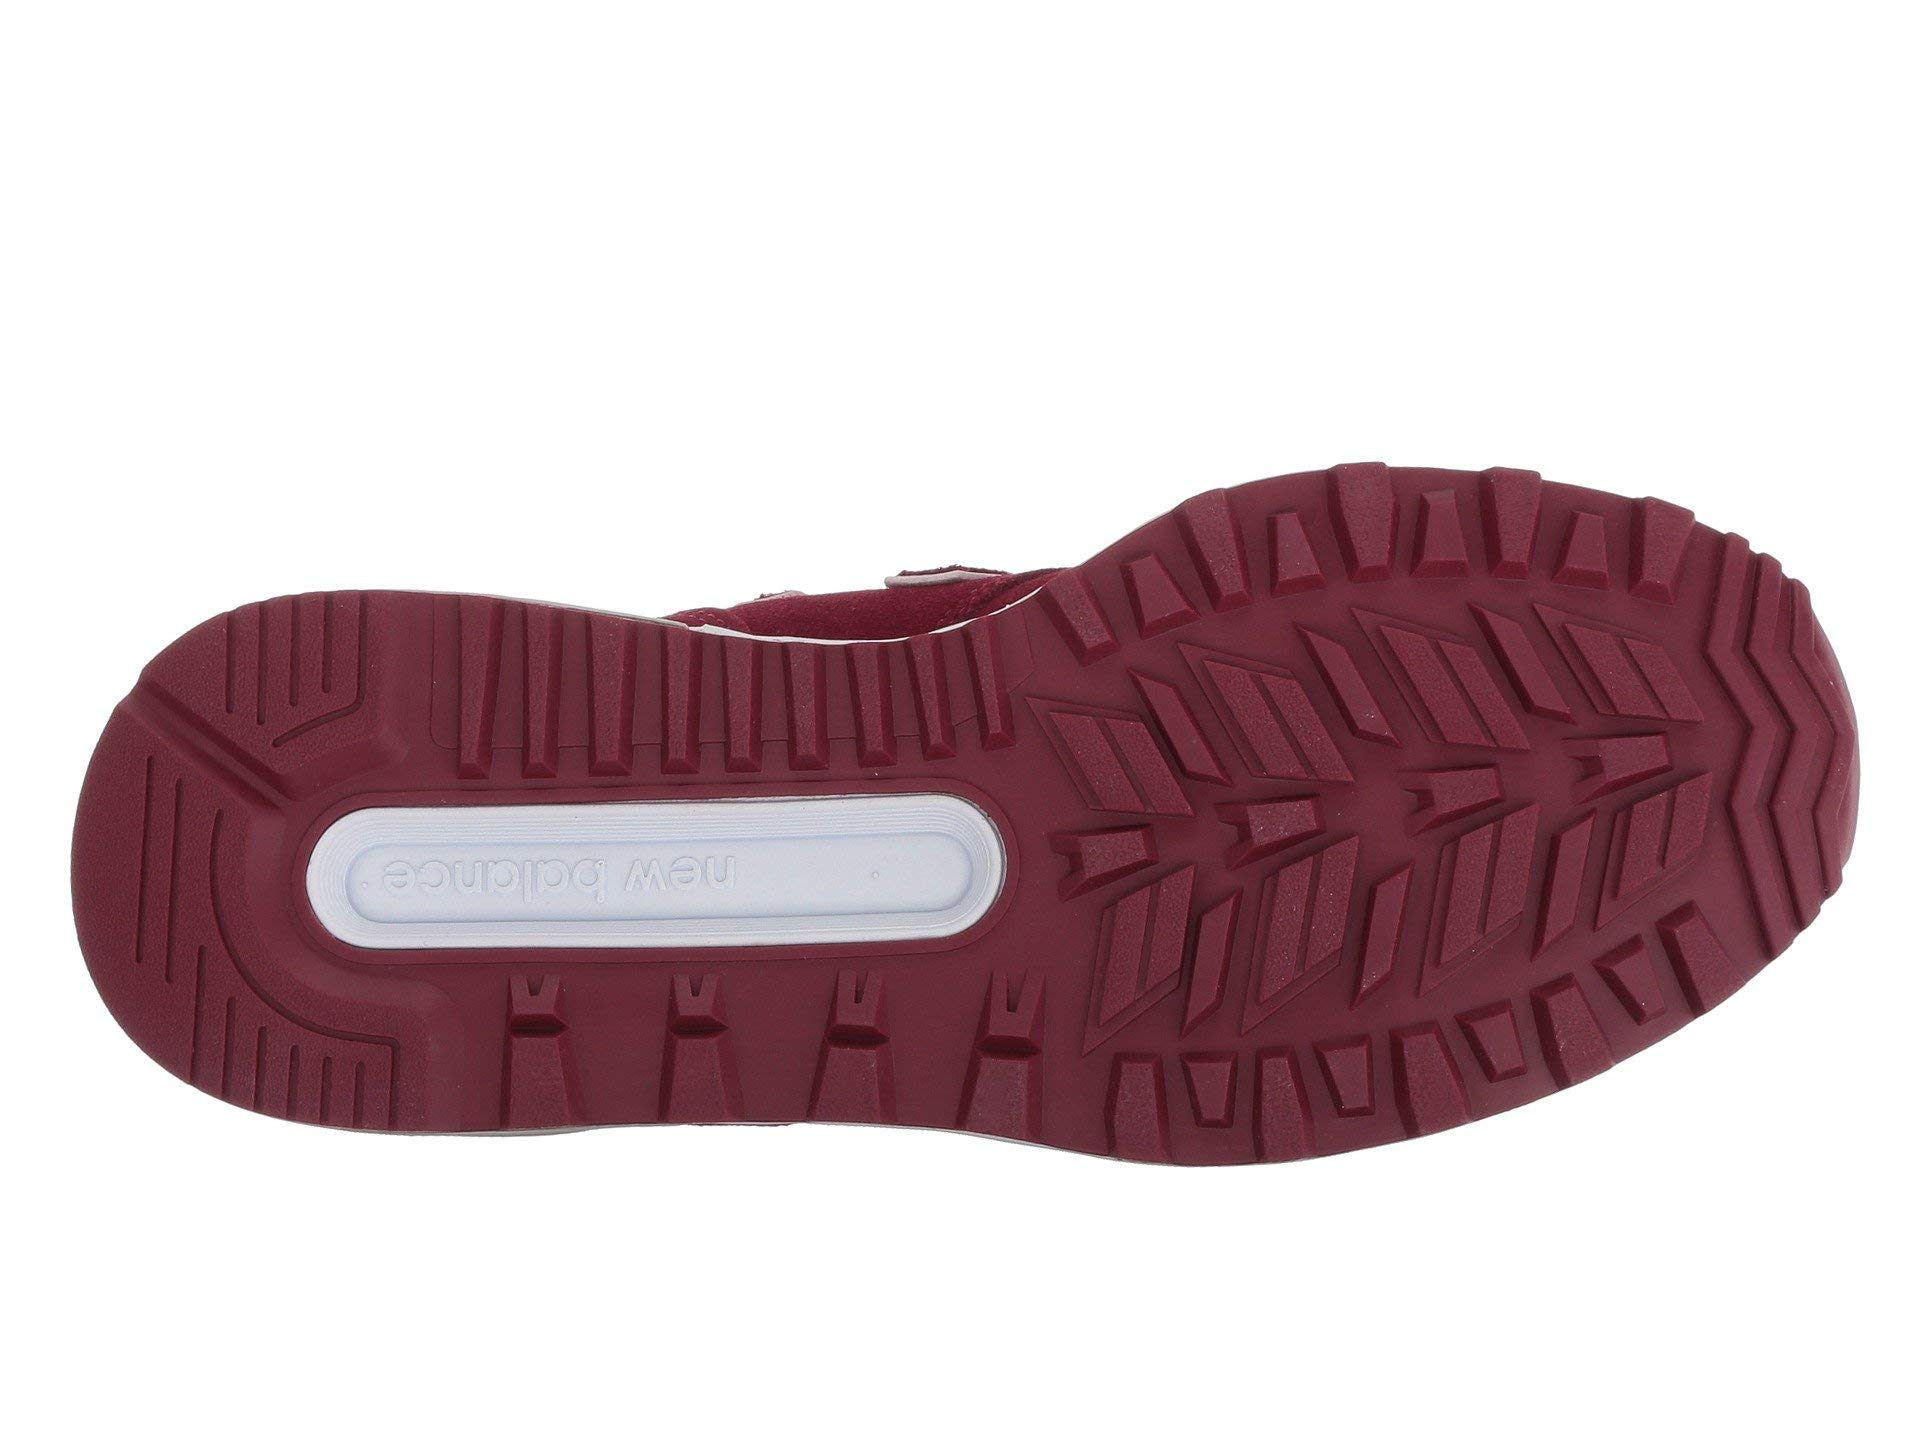chevron: (1665, 576, 1912, 852)
line: (113, 794, 330, 1048), (225, 602, 361, 750)
quad: (1147, 440, 1598, 902), (1076, 905, 1542, 1219), (438, 567, 644, 788), (1565, 915, 1769, 1103)
text: (376, 818, 618, 977), (609, 788, 786, 964)
